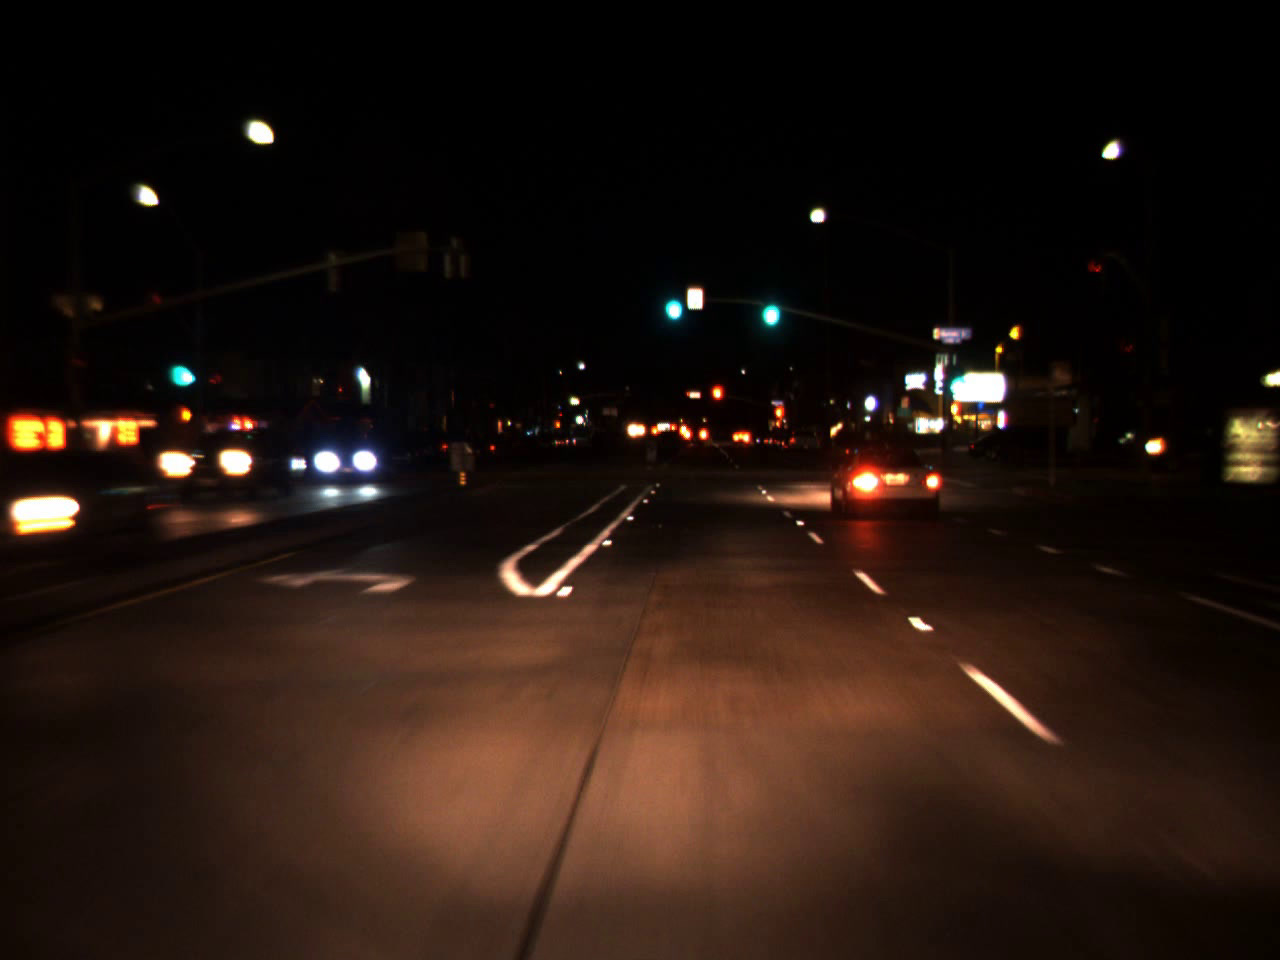go: (755, 277, 783, 334), (166, 340, 193, 394), (658, 275, 686, 326), (944, 361, 969, 397)
stop: (771, 404, 786, 436), (710, 384, 723, 416)
